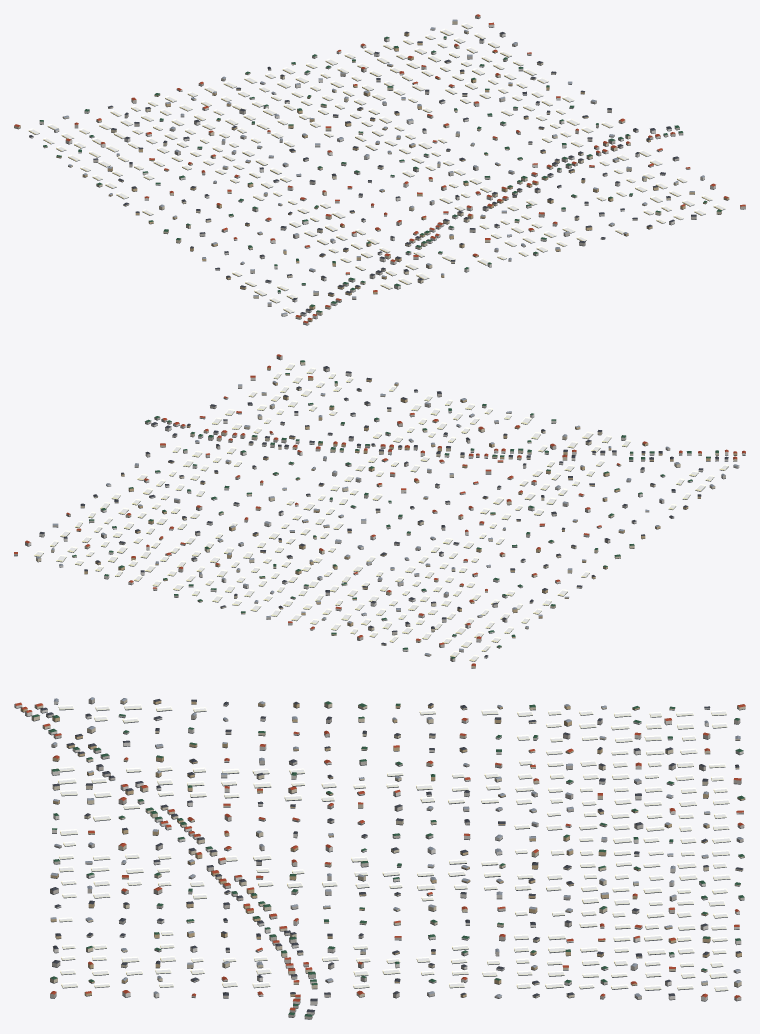
Rendered from buildings_T_E04_S02.glb.
3 views of the same model, one above another, from view 1: azimuth 30°, elevation 25°; view 2: azimuth 150°, elevation 25°; view 3: azimuth 270°, elevation 25° (orthographic). The views are drawn at different scales.
Visible parts, largest first — view 1: T_E04_S02_roofs_agri_greenhouse_arch, T_E04_S02_slope_seating_foundations, T_E04_S02_walls_wall_pastel_sand_gray, T_E04_S02_walls_wall_dalat_cream_stucco, T_E04_S02_walls_wall_modern_warm_white, T_E04_S02_roofs_roof_slate_French_villa_hip, T_E04_S02_walls_wall_french_ochre_villa, T_E04_S02_roofs_roof_terracotta_gable, T_E04_S02_roofs_roof_pine_green_hip, T_E04_S02_roofs_roof_zinc_silver_gable; view 2: T_E04_S02_roofs_agri_greenhouse_arch, T_E04_S02_slope_seating_foundations, T_E04_S02_walls_wall_pastel_sand_gray, T_E04_S02_roofs_roof_slate_French_villa_hip, T_E04_S02_walls_wall_dalat_cream_stucco, T_E04_S02_walls_wall_modern_warm_white, T_E04_S02_walls_wall_french_ochre_villa, T_E04_S02_roofs_roof_terracotta_gable, T_E04_S02_roofs_roof_pine_green_hip, T_E04_S02_roofs_roof_zinc_silver_gable; view 3: T_E04_S02_roofs_agri_greenhouse_arch, T_E04_S02_slope_seating_foundations, T_E04_S02_walls_wall_pastel_sand_gray, T_E04_S02_walls_wall_dalat_cream_stucco, T_E04_S02_roofs_roof_slate_French_villa_hip, T_E04_S02_walls_wall_modern_warm_white, T_E04_S02_walls_wall_french_ochre_villa, T_E04_S02_roofs_roof_terracotta_gable, T_E04_S02_roofs_roof_pine_green_hip, T_E04_S02_roofs_roof_zinc_silver_gable.
Part boxes in pixels (<box>): T_E04_S02_roofs_agri_greenhouse_arch: <box>28,23,725,312</box>; T_E04_S02_slope_seating_foundations: <box>14,17,745,325</box>; T_E04_S02_walls_wall_pastel_sand_gray: <box>39,15,745,312</box>; T_E04_S02_walls_wall_dalat_cream_stucco: <box>14,21,721,319</box>; T_E04_S02_walls_wall_modern_warm_white: <box>29,23,715,324</box>; T_E04_S02_roofs_roof_slate_French_villa_hip: <box>29,31,696,314</box>; T_E04_S02_walls_wall_french_ochre_villa: <box>56,33,729,321</box>; T_E04_S02_roofs_roof_terracotta_gable: <box>14,14,745,323</box>; T_E04_S02_roofs_roof_pine_green_hip: <box>39,36,721,312</box>; T_E04_S02_roofs_roof_zinc_silver_gable: <box>55,19,704,314</box>; T_E04_S02_roofs_agri_greenhouse_arch: <box>34,363,728,661</box>; T_E04_S02_slope_seating_foundations: <box>14,358,745,668</box>; T_E04_S02_walls_wall_pastel_sand_gray: <box>14,356,725,661</box>; T_E04_S02_roofs_roof_slate_French_villa_hip: <box>39,366,728,657</box>; T_E04_S02_walls_wall_dalat_cream_stucco: <box>36,361,737,668</box>; T_E04_S02_walls_wall_modern_warm_white: <box>25,373,745,657</box>; T_E04_S02_walls_wall_french_ochre_villa: <box>76,367,737,637</box>; T_E04_S02_roofs_roof_terracotta_gable: <box>14,354,745,666</box>; T_E04_S02_roofs_roof_pine_green_hip: <box>72,360,718,658</box>; T_E04_S02_roofs_roof_zinc_silver_gable: <box>36,381,739,655</box>; T_E04_S02_roofs_agri_greenhouse_arch: <box>57,704,730,990</box>; T_E04_S02_slope_seating_foundations: <box>14,701,745,1019</box>; T_E04_S02_walls_wall_pastel_sand_gray: <box>46,698,744,1019</box>; T_E04_S02_walls_wall_dalat_cream_stucco: <box>31,699,745,997</box>; T_E04_S02_roofs_roof_slate_French_villa_hip: <box>40,699,743,1012</box>; T_E04_S02_walls_wall_modern_warm_white: <box>14,700,743,1014</box>; T_E04_S02_walls_wall_french_ochre_villa: <box>20,700,745,997</box>; T_E04_S02_roofs_roof_terracotta_gable: <box>15,702,745,1010</box>; T_E04_S02_roofs_roof_pine_green_hip: <box>32,701,744,1016</box>; T_E04_S02_roofs_roof_zinc_silver_gable: <box>51,697,743,997</box>.
Bounding box in the file's own units: 1872 × 43.05 × 1843.
